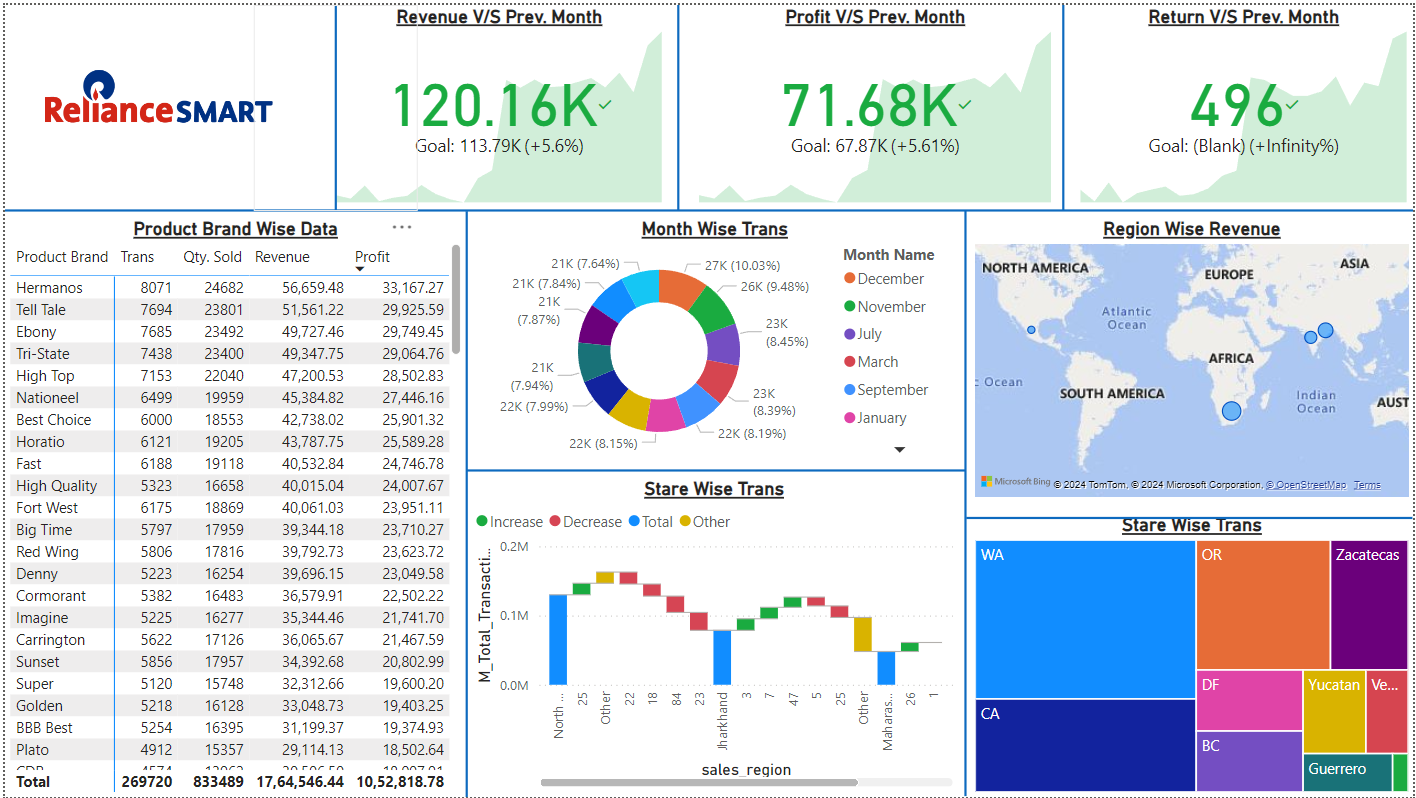

This screenshot's page, from the dashboard's own definition file:
{"tool":"powerbi","page":{"name":"Page 1","canvas":[1280,720],"ordinal":0},"visuals":[{"type":"image","box":[0,18.3,280,129.6],"z":0},{"type":"shape","box":[0,181,1280.3,12.2],"z":1000},{"type":"pivotTable","title":"Product Brand Wise Data","fields":{"Rows":["D_Products.product_brand"],"Values":["Measures (2).M_Total_Transactions","Measures (2).M_Quantity_Sold","Measures (2).M_Total_Revenue","Measures (2).M_Total_Profit"]},"box":[0,193.2,419.4,527],"z":2000},{"type":"shape","box":[413.3,187.1,12.2,533.2],"z":3000},{"type":"donutChart","title":"Month Wise Trans","fields":{"Category":["D_Calendar.Month Name"],"Y":["Measures (2).M_Total_Transactions"]},"box":[423.1,193.2,445.1,223.8],"z":4000},{"type":"shape","box":[867,186.8,12.2,533.2],"z":5000},{"type":"treemap","title":"Stare Wise Trans","fields":{"Values":["Measures (2).M_Total_Transactions"],"Group":["D_Stores.store_state"]},"box":[876.8,462.2,403.5,258],"z":6000},{"type":"shape","box":[887.8,0,149.2,187.1],"z":7000},{"type":"kpi","title":"Revenue V/S Prev. Month","fields":{"Indicator":["Measures (2).M_Total_Revenue"],"TrendLine":["D_Calendar.Start of Month"],"Goal":["Measures (2).M_Previous_Month_Revenue"]},"box":[297.1,0,305.7,184.6],"z":8000},{"type":"shape","box":[538,0,149.2,187.1],"z":9000},{"type":"kpi","title":"Profit V/S Prev. Month","fields":{"TrendLine":["D_Calendar.Start of Month"],"Goal":["Measures (2).M_Previous_Month_Profit"],"Indicator":["Measures (2).M_Total_Profit"]},"box":[626.1,0,330.2,184.6],"z":10000},{"type":"shape","box":[226.2,0,149.2,187.1],"z":11000},{"type":"kpi","title":"Return V/S Prev. Month","fields":{"TrendLine":["D_Calendar.Start of Month"],"Indicator":["Measures (2).M_Total_Return"],"Goal":["Sum(Measures (2).M_Previous_Month_Return)"]},"box":[973.1,0,306.9,184.6],"z":12000},{"type":"shape","box":[419.4,417,453.7,12.2],"z":13000},{"type":"map","title":"Region Wise Revenue","fields":{"Category":["D_Regions.sales_region"],"Size":["Measures (2).M_Total_Revenue"]},"box":[876.8,193.2,403.5,259.2],"z":14000},{"type":"shape","box":[874,460,406,12.2],"z":15000},{"type":"waterfallChart","title":"Region Wise Profit","fields":{"Y":["Measures (2).M_Total_Profit"],"Category":["D_Regions.sales_region"],"Breakdown":["D_Regions.region_id"]},"box":[423.1,429.2,443.9,286.1],"z":16000}]}

Visuals, with their boxes in screenshot pixels (x1, y1, x2, y2), scaled from the page's 1280x720 canvas onto the 1416x798 screenshot:
image: bbox=[0, 20, 310, 164]
shape: bbox=[0, 201, 1415, 214]
"Product Brand Wise Data" pivotTable: bbox=[0, 214, 464, 797]
shape: bbox=[457, 207, 471, 797]
"Month Wise Trans" donutChart: bbox=[468, 214, 960, 462]
shape: bbox=[959, 207, 973, 797]
"Stare Wise Trans" treemap: bbox=[970, 512, 1415, 797]
shape: bbox=[982, 0, 1147, 207]
"Revenue V/S Prev. Month" kpi: bbox=[329, 0, 667, 205]
shape: bbox=[595, 0, 760, 207]
"Profit V/S Prev. Month" kpi: bbox=[693, 0, 1058, 205]
shape: bbox=[250, 0, 415, 207]
"Return V/S Prev. Month" kpi: bbox=[1076, 0, 1415, 205]
shape: bbox=[464, 462, 966, 476]
"Region Wise Revenue" map: bbox=[970, 214, 1415, 501]
shape: bbox=[967, 510, 1415, 523]
"Region Wise Profit" waterfallChart: bbox=[468, 476, 959, 793]
